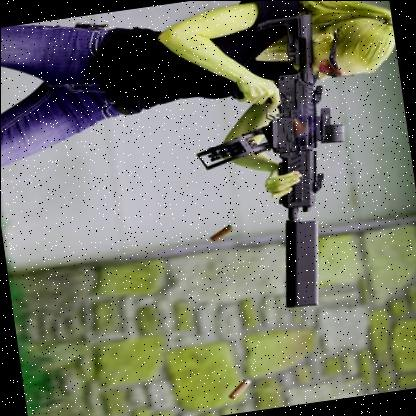rifle: (168, 9, 381, 324)
